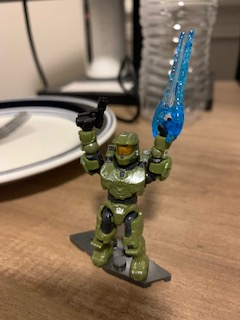chief: (75, 113, 173, 281)
pistol: (75, 96, 109, 132)
spartan: (73, 111, 171, 279)
up: (73, 112, 173, 203)
